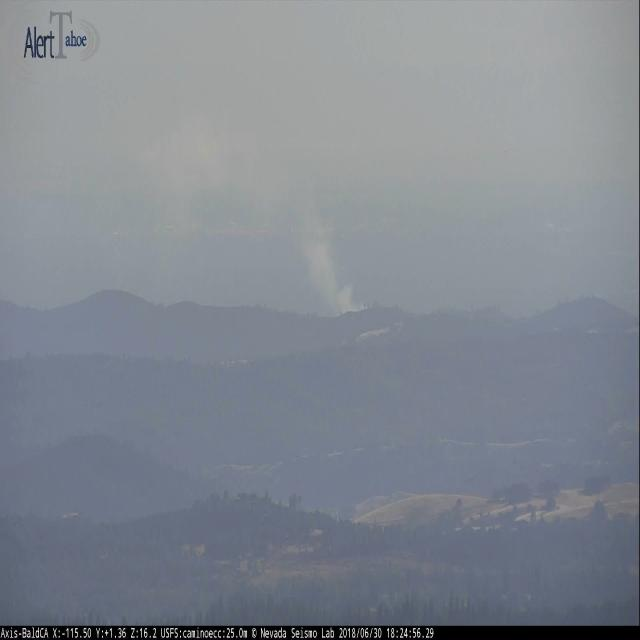smoke: (295, 210, 371, 308), (545, 219, 556, 229)
